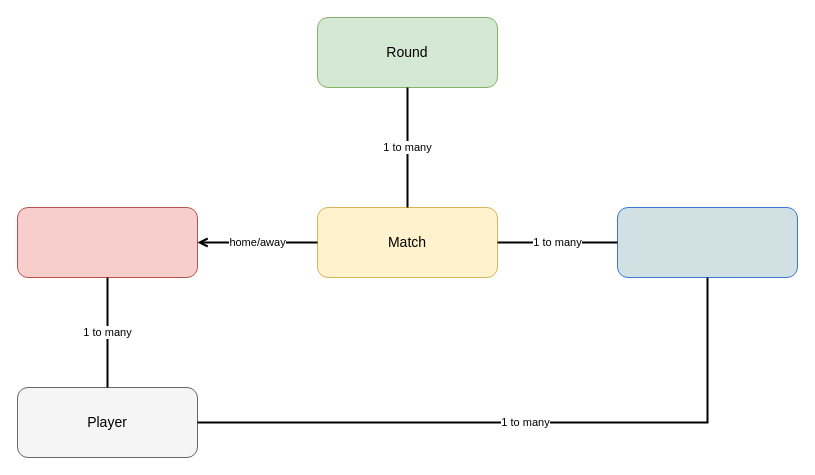
This 815x475 diagram has some shape labels left out. Each missing label, with the centre of its shape:
"Goal" belongs at [707,242].
"Team" belongs at [107,242].
